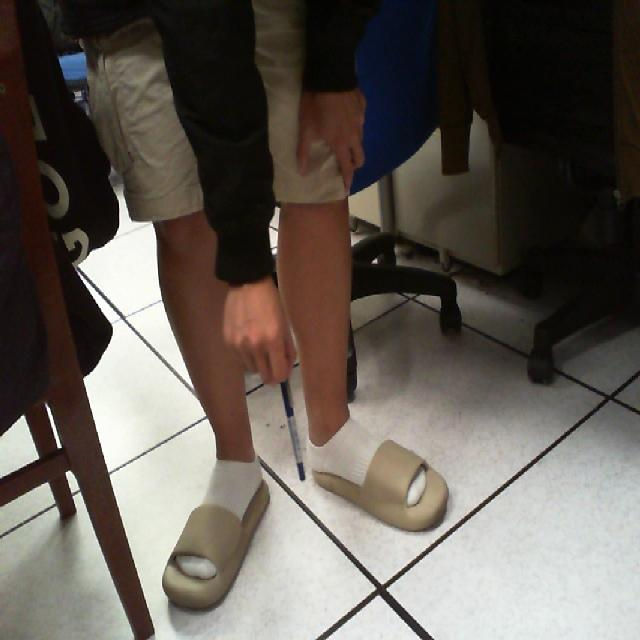Pen: (269, 354, 319, 513)
